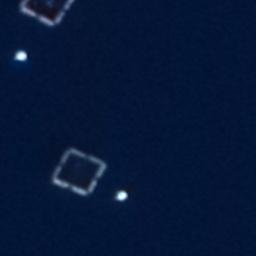square_solid: (46, 143, 111, 202), (13, 1, 80, 30)
